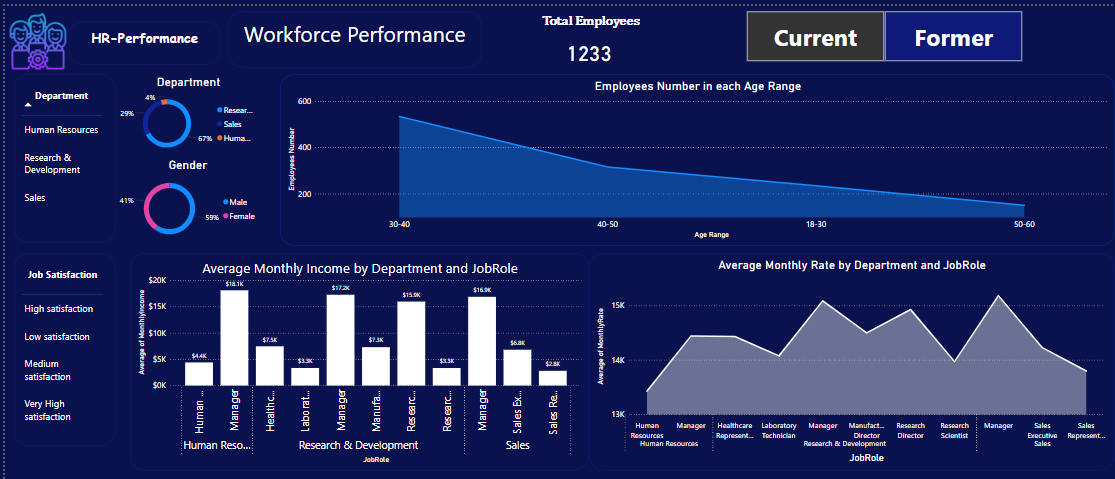

Layout of this report page (visuals, bound fields, positions):
{"tool":"powerbi","page":{"name":"Workforce Performance","canvas":[2220,950],"ordinal":0},"visuals":[{"type":"textbox","box":[128.4,30.5,302.8,88],"z":0,"group":"g1"},{"type":"card","fields":{"Values":["CountNonNull(HR-Employee-Attrition.EmployeeNumber)"]},"box":[953.4,54.9,432.3,72.5],"z":0,"group":"g2"},{"type":"tableEx","fields":{"Values":["HR-Employee-Attrition.Department"]},"box":[17.1,136.8,203.3,338.2],"z":0},{"type":"image","box":[4.1,4.1,124.3,132],"z":1000,"group":"g1"},{"type":"columnChart","title":"Average Monthly Income by  Department and JobRole","fields":{"Category":["HR-Employee-Attrition.Department","HR-Employee-Attrition.JobRole"],"Y":["Avg(HR-Employee-Attrition.MonthlyIncome)"]},"box":[250.8,494,917.7,435.1],"z":1000},{"type":"textbox","box":[934.6,10.1,472.5,64],"z":2000,"group":"g2"},{"type":"areaChart","title":"Average Monthly Rate by Department and JobRole","fields":{"Category":["HR-Employee-Attrition.Department","HR-Employee-Attrition.JobRole"],"Y":["Avg(HR-Employee-Attrition.MonthlyRate)"]},"box":[1168.5,494,1050.7,435.1],"z":2000},{"type":"group","id":"g1","title":"Group 4","box":[4.1,4.1,427.1,132],"z":3000},{"type":"donutChart","title":"Gender","fields":{"Category":["HR-Employee-Attrition.Gender"],"Y":["CountNonNull(HR-Employee-Attrition.Gender)"]},"box":[218.4,304.4,295.8,175.4],"z":4000},{"type":"slicer","title":"Attrition","fields":{"Values":["HR-Employee-Attrition.Attrition"]},"box":[1458.7,4.1,600.4,113.5],"z":5000},{"type":"donutChart","title":"Department ","fields":{"Category":["HR-Employee-Attrition.Department"],"Y":["CountNonNull(HR-Employee-Attrition.Department)"]},"box":[220.2,137.6,294.1,166.8],"z":6000},{"type":"group","id":"g2","title":"Group 1","box":[934.6,10.1,472.5,117.4],"z":7000},{"type":"areaChart","title":"Employees Number in each Age Range","fields":{"Category":["HR-Employee-Attrition.Age Range"],"Y":["CountNonNull(HR-Employee-Attrition.EmployeeNumber)"]},"box":[549.1,136.8,1670.1,343.9],"z":8000},{"type":"tableEx","fields":{"Values":["HR-Employee-Attrition.Job Satisfaction"]},"box":[17.1,494,203.3,385.7],"z":9000},{"type":"textbox","box":[445.7,10.3,507.5,113.5],"z":10000}]}

Visuals, with their boxes in screenshot pixels (x1, y1, x2, y2), scaled from the page's 2220x950 canvas onto the 1115x479 screenshot:
textbox: bbox=[64, 15, 217, 60]
card - CountNonNull(HR-Employee-Attrition.EmployeeNumber): bbox=[479, 28, 696, 64]
tableEx - HR-Employee-Attrition.Department: bbox=[9, 69, 111, 239]
image: bbox=[2, 2, 64, 69]
"Average Monthly Income by  Department and JobRole" columnChart: bbox=[126, 249, 587, 468]
textbox: bbox=[469, 5, 707, 37]
"Average Monthly Rate by Department and JobRole" areaChart: bbox=[587, 249, 1114, 468]
"Group 4" group: bbox=[2, 2, 217, 69]
"Gender" donutChart: bbox=[110, 153, 258, 242]
"Attrition" slicer: bbox=[733, 2, 1034, 59]
"Department " donutChart: bbox=[111, 69, 258, 153]
"Group 1" group: bbox=[469, 5, 707, 64]
"Employees Number in each Age Range" areaChart: bbox=[276, 69, 1114, 242]
tableEx - HR-Employee-Attrition.Job Satisfaction: bbox=[9, 249, 111, 444]
textbox: bbox=[224, 5, 479, 62]
